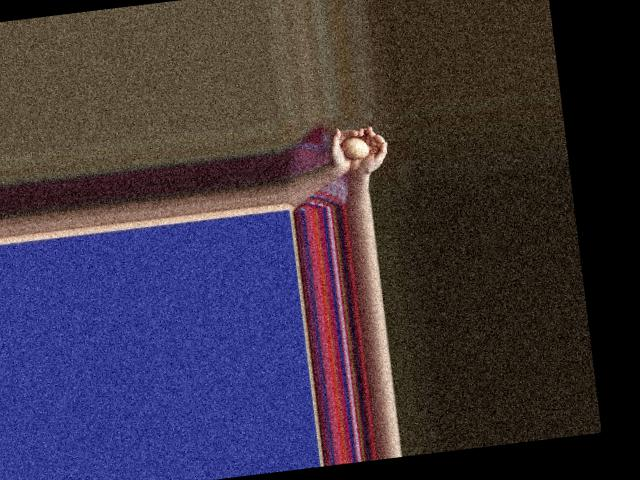egg: (340, 135, 369, 160)
